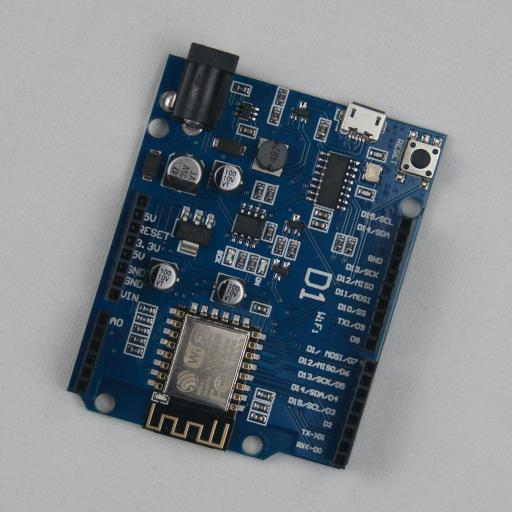Arduino Uno WiFi Shield: (67, 43, 447, 469)
